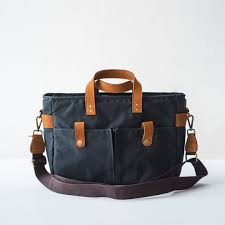bag: (31, 74, 212, 198)
